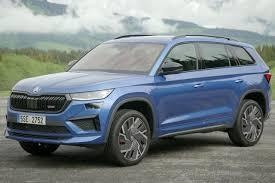skoda: (31, 86, 40, 93)
